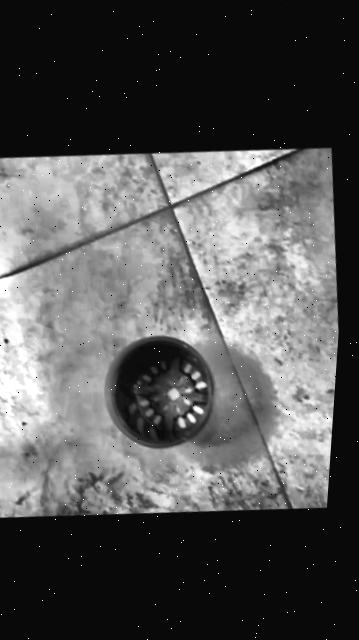pot: (96, 328, 223, 459)
